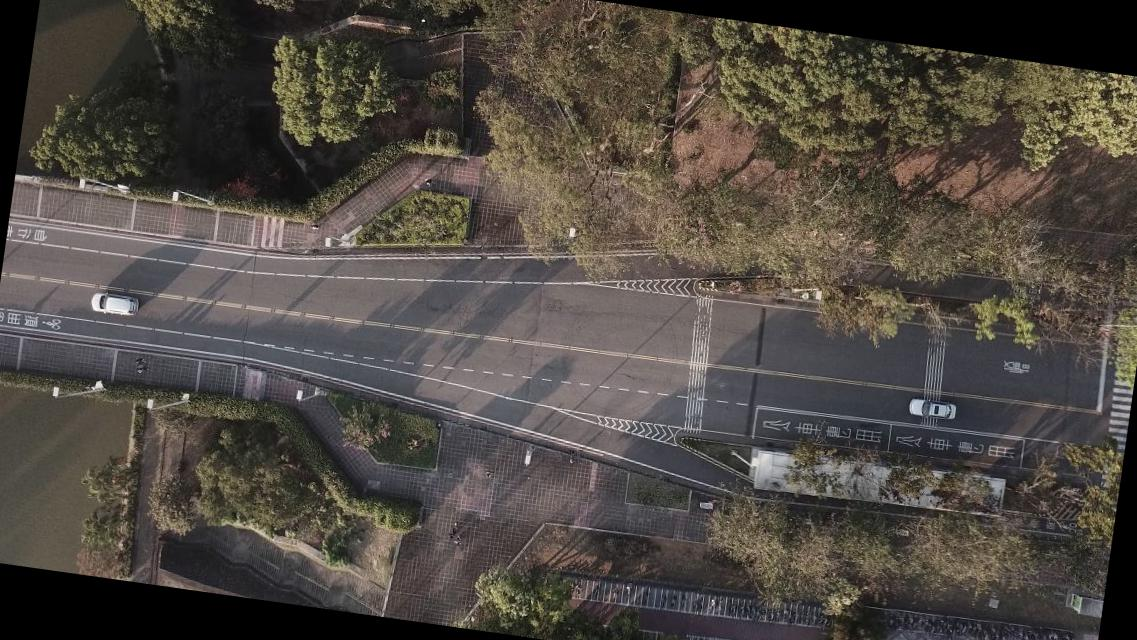vehicle: (90, 290, 140, 318), (909, 396, 958, 421)
